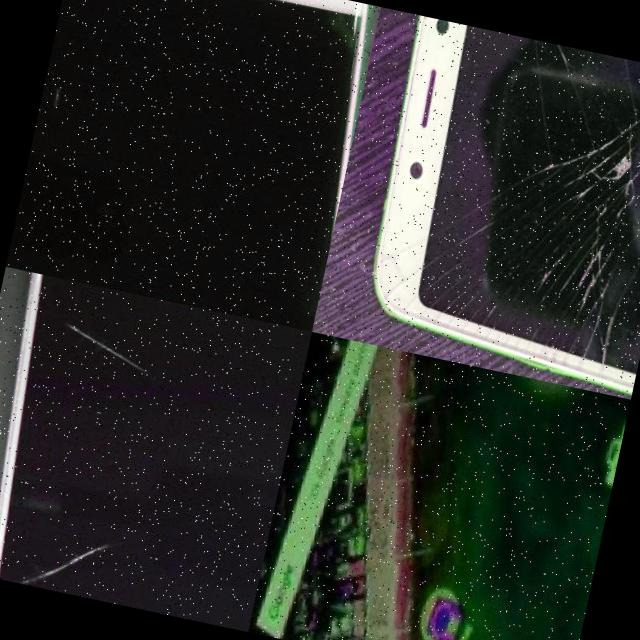scratch: (3, 524, 108, 600), (55, 320, 170, 378), (37, 74, 74, 118)
screen crack: (334, 10, 640, 386)
